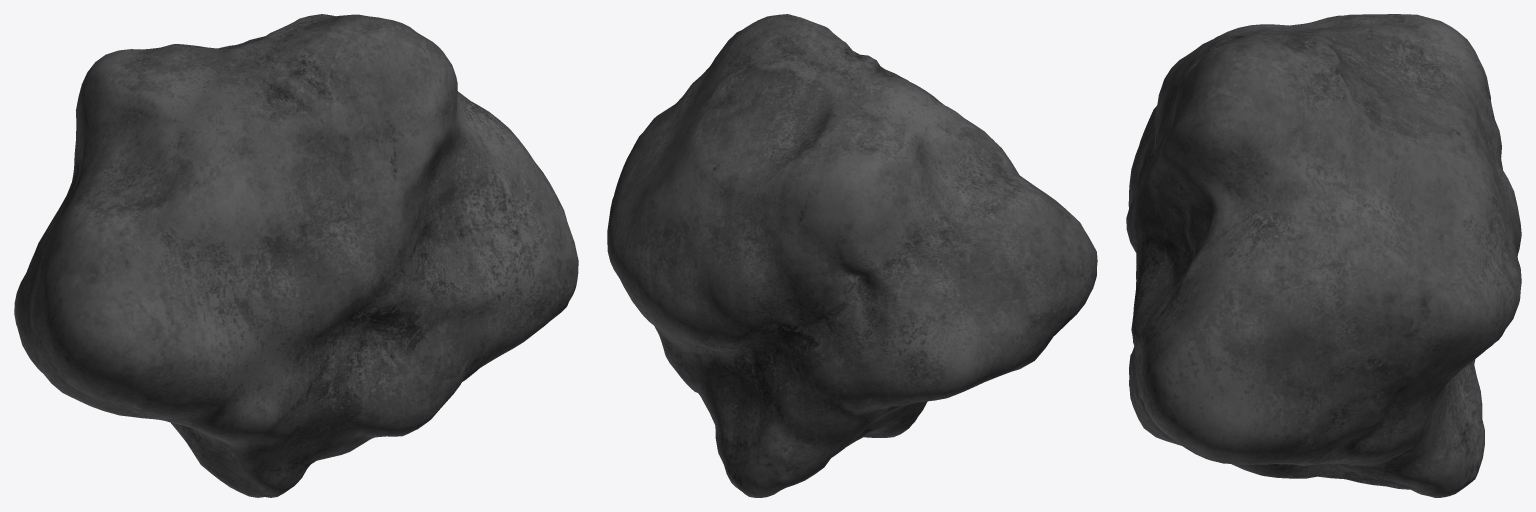
The model's file is 54509-yorp_asteroid_potential_earth_impactor-compressed.glb.
3 views of the same model, side by side, from view 1: azimuth 30°, elevation 25°; view 2: azimuth 150°, elevation 25°; view 3: azimuth 270°, elevation 25° (orthographic). The views are drawn at different scales.
Visible parts, largest first — view 1: Group24690; view 2: Group24690; view 3: Group24690.
Part boxes in pixels (left/top/right/bottom): Group24690: left=14, top=14, right=578, bottom=497; Group24690: left=607, top=14, right=1097, bottom=497; Group24690: left=1126, top=14, right=1521, bottom=497.
Bounding box in the file's own units: 4.2 × 3.61 × 2.72.
1 material, 1 textured.
